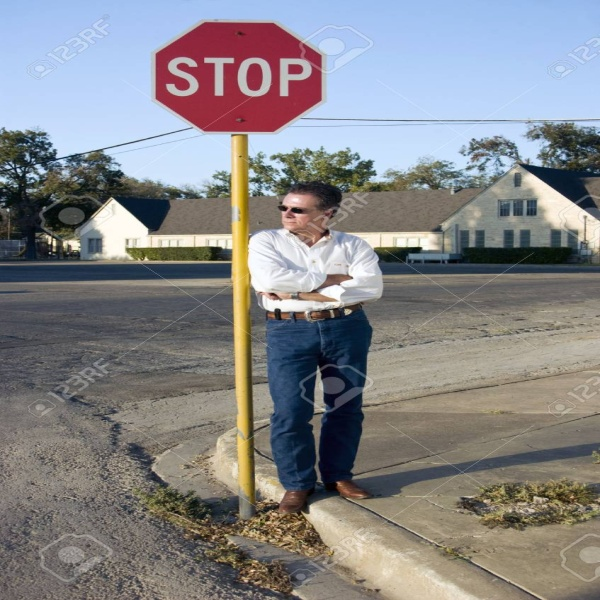stop: (151, 23, 330, 133)
